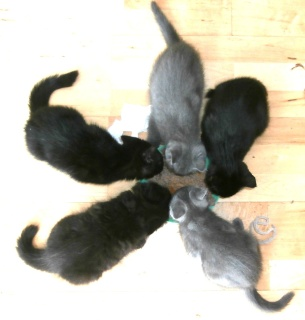Cat: (166, 183, 296, 318), (11, 178, 173, 285), (22, 66, 165, 187), (145, 0, 208, 178), (198, 72, 273, 199)
